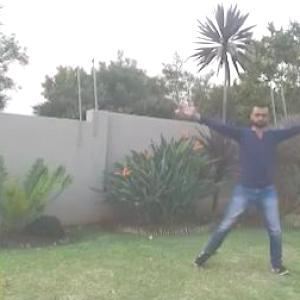takeoff: (171, 92, 299, 276)
